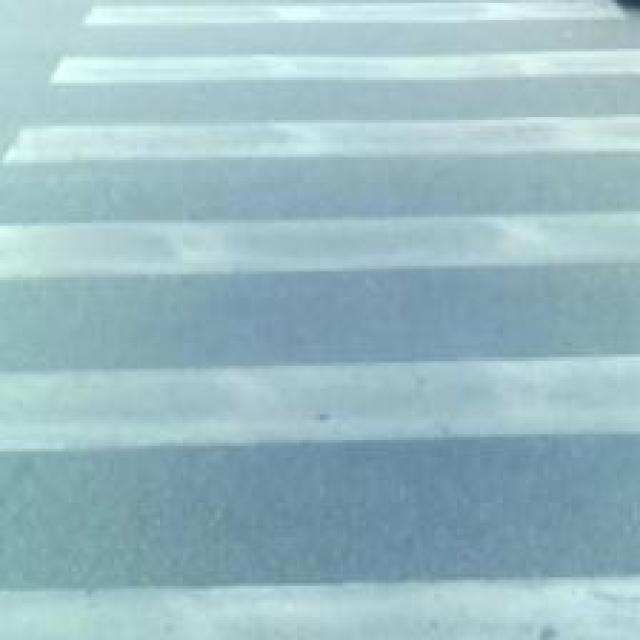walk-crossing: (81, 3, 633, 640)
